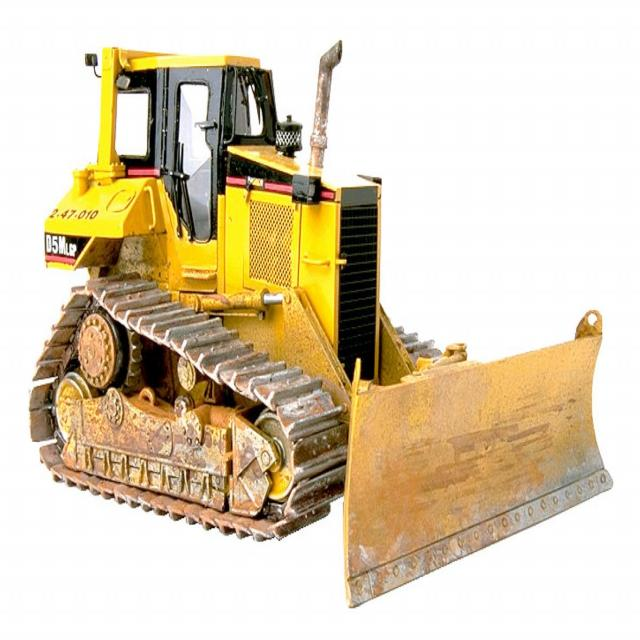Bulldozer: (39, 37, 623, 609)
